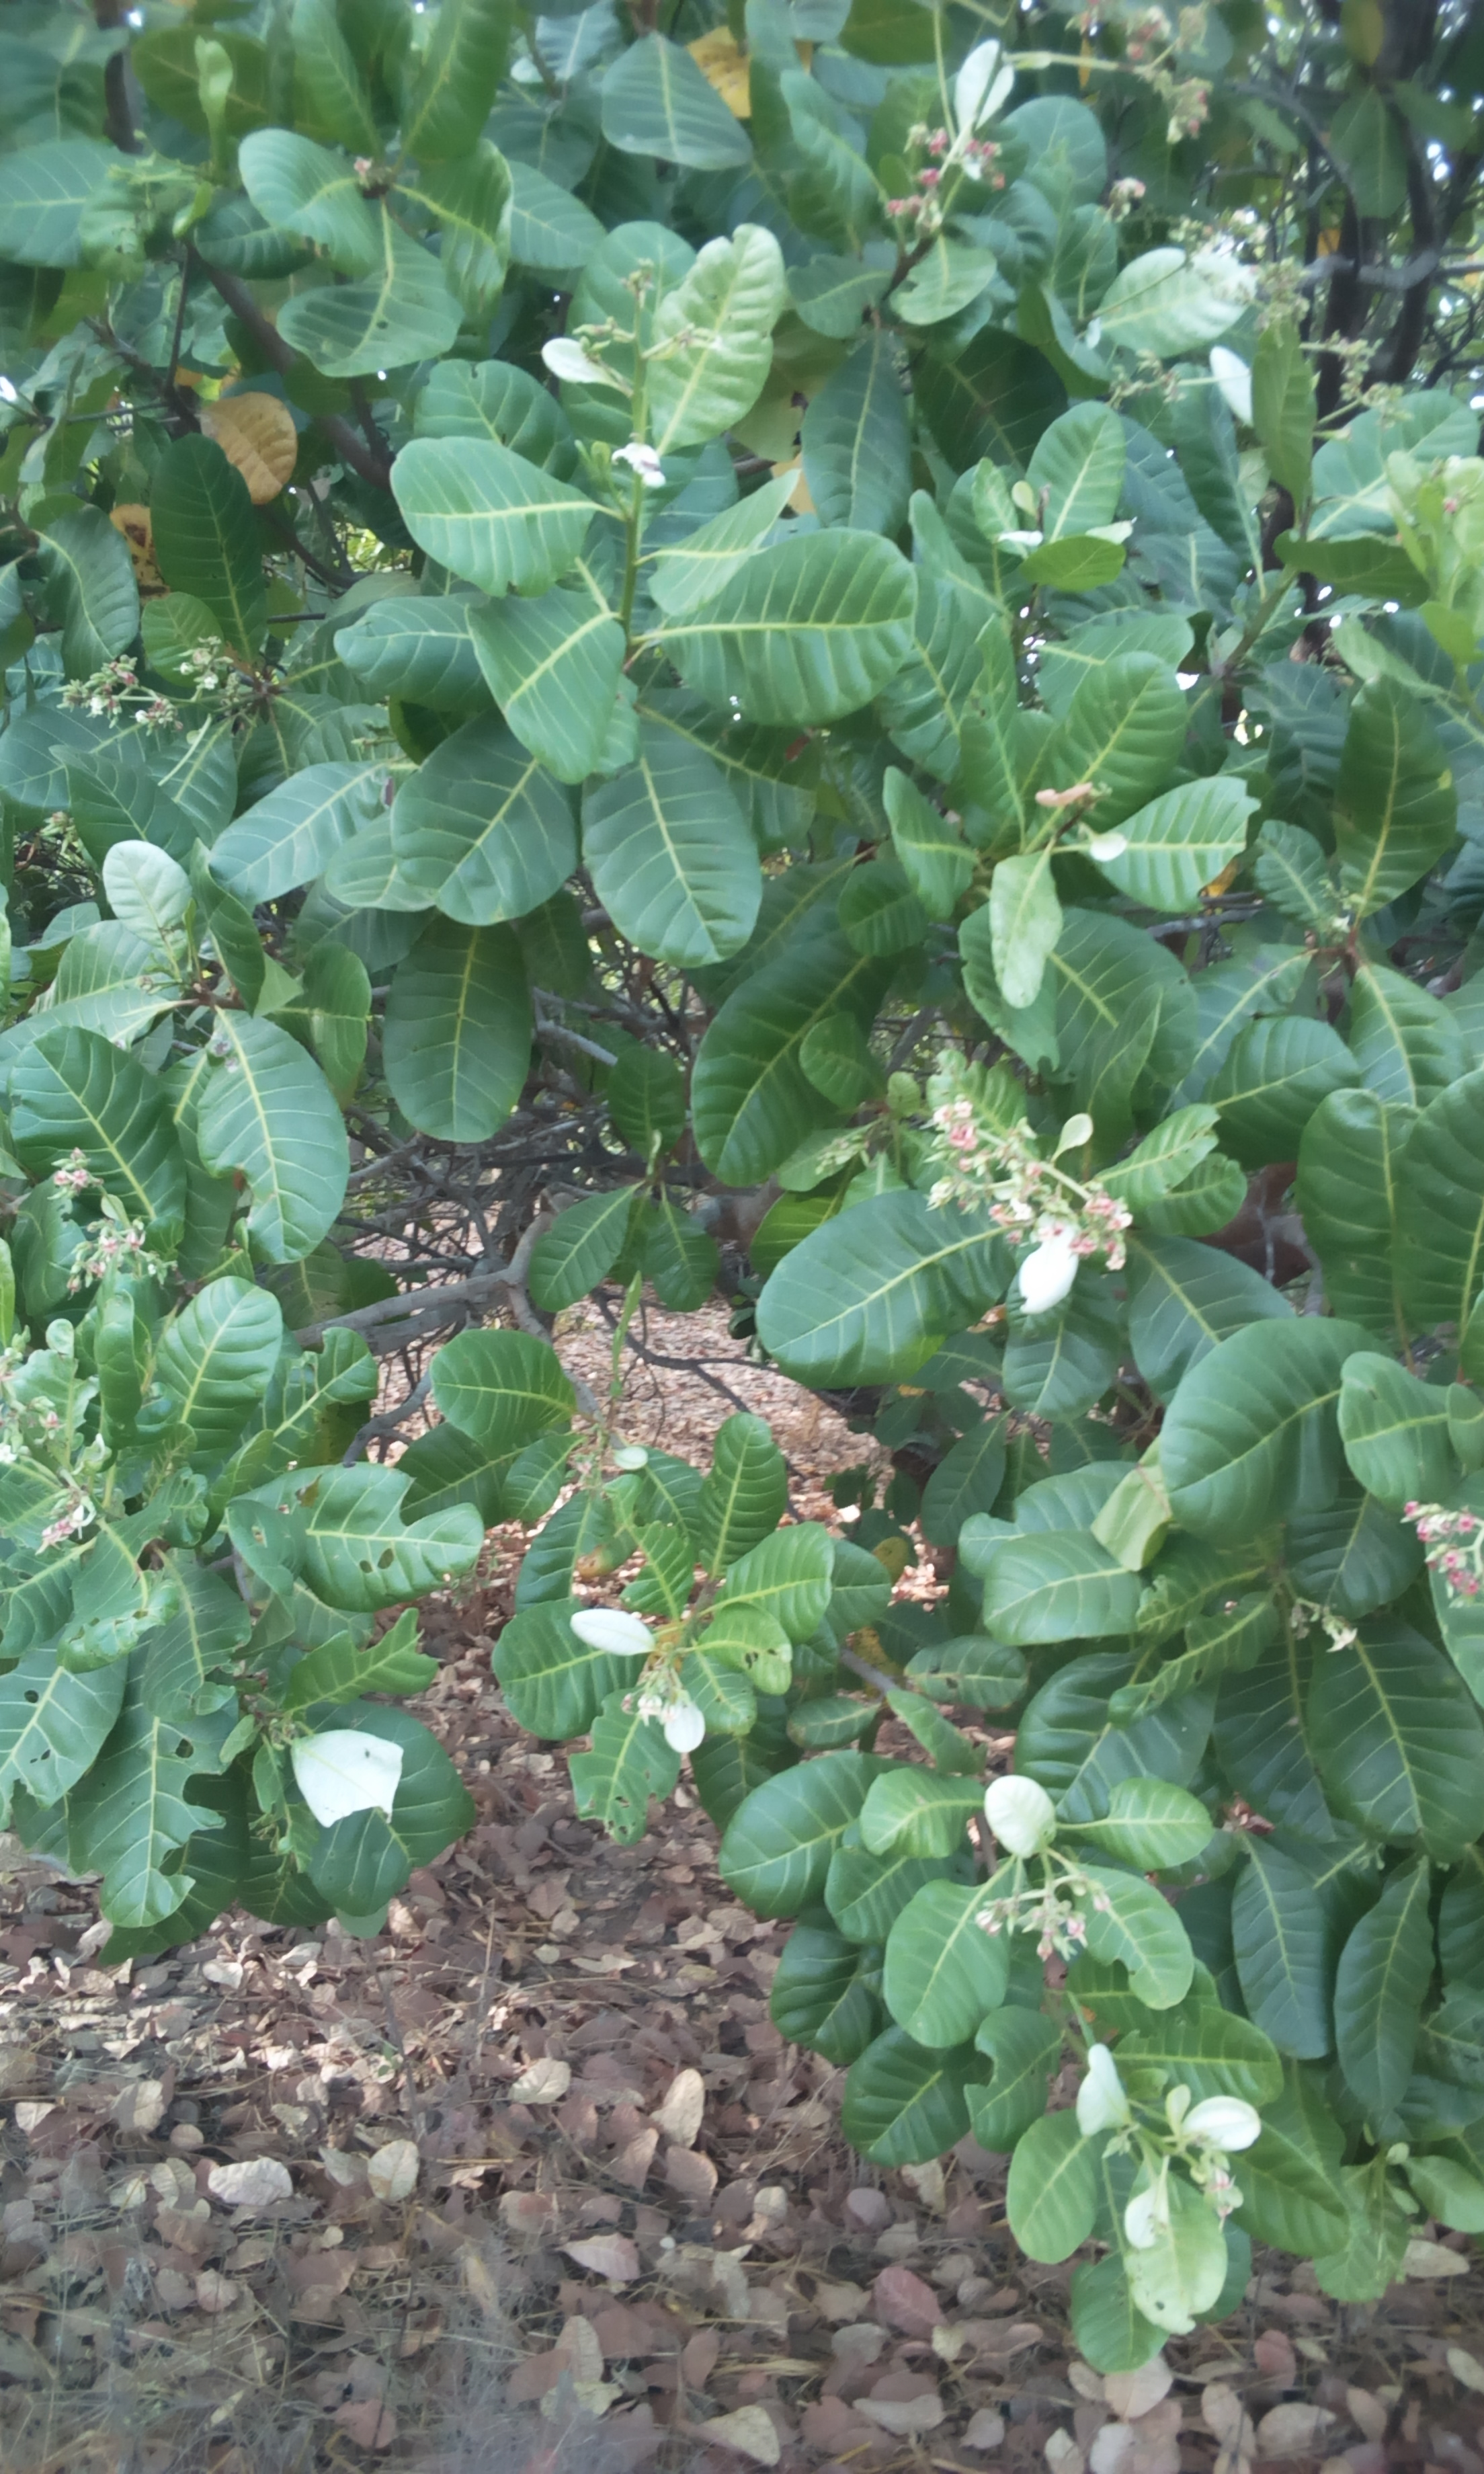Helopeltis anacardii: (0, 1502, 189, 1877), (228, 1465, 493, 1605)
